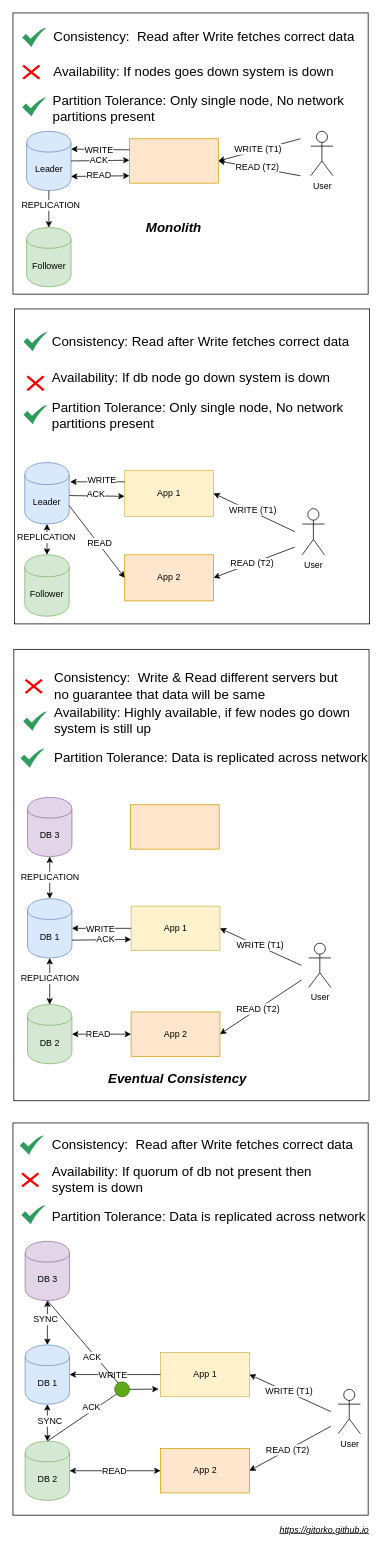
Image size: 384x1550. Some labels were removed from this diagram. Each missing label, with the box of its shape:
App: (129, 138, 218, 183)
App 3: (130, 804, 219, 849)
